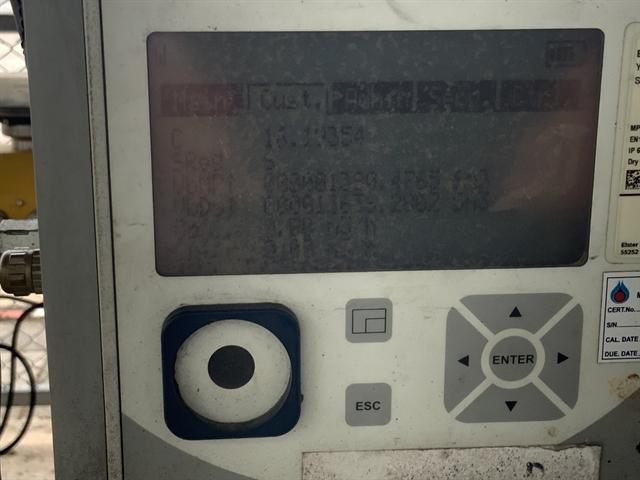digital_screen: (149, 32, 605, 273)
